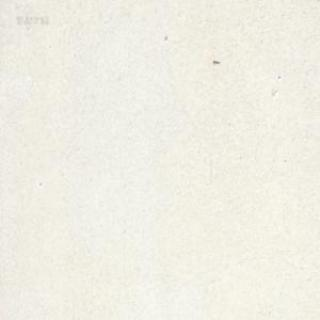Nailtrack_idkeyframe: (212, 57, 218, 63)
